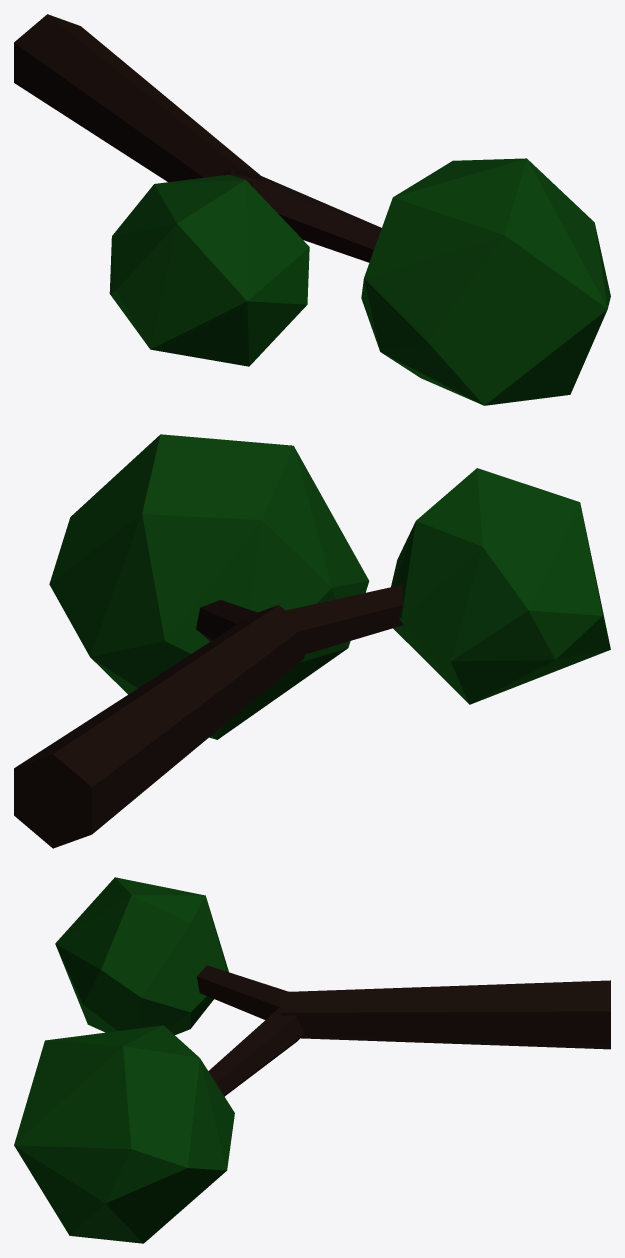
Rendered from trees2.obj.
The picture shows the model from 3 angles, top to bottom: view 1: azimuth 30°, elevation 25°; view 2: azimuth 150°, elevation 25°; view 3: azimuth 270°, elevation 25°; orthographic projection. The views are drawn at different scales.
Visible parts, largest first — view 1: Cylinder_Cylinder.004; view 2: Cylinder_Cylinder.004; view 3: Cylinder_Cylinder.004.
Boxes of the visible parts, x1,y1,x2,y2 form: Cylinder_Cylinder.004: [14, 14, 610, 405]; Cylinder_Cylinder.004: [14, 434, 610, 848]; Cylinder_Cylinder.004: [14, 877, 610, 1243].
Size of the model in its own units: 5.43 by 3.08 by 7.02.
